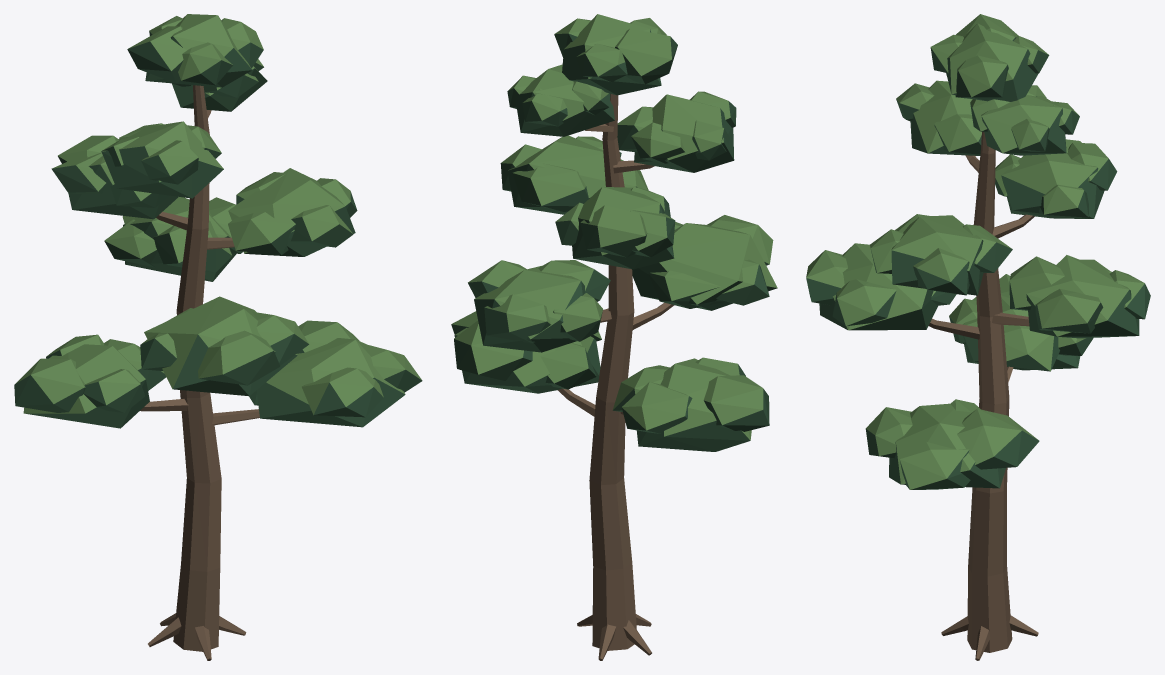
Rendered from pine_tiered.glb.
The picture shows the model from 3 angles, left to right: view 1: azimuth 30°, elevation 25°; view 2: azimuth 150°, elevation 25°; view 3: azimuth 270°, elevation 25°; orthographic projection. The views are drawn at different scales.
Parts seen in each view (by area): view 1: PineTiered / PineLight, PineTiered / PineNeedle, PineTiered / Bark; view 2: PineTiered / PineLight, PineTiered / PineNeedle, PineTiered / Bark; view 3: PineTiered / PineLight, PineTiered / PineNeedle, PineTiered / Bark.
Boxes of the visible parts, x1,y1,x2,y2 form: PineTiered / PineLight: [15, 14, 421, 414]; PineTiered / PineNeedle: [14, 31, 422, 428]; PineTiered / Bark: [140, 85, 259, 660]; PineTiered / PineLight: [451, 14, 777, 440]; PineTiered / PineNeedle: [451, 29, 777, 451]; PineTiered / Bark: [557, 93, 674, 660]; PineTiered / PineLight: [806, 14, 1144, 489]; PineTiered / PineNeedle: [806, 37, 1150, 489]; PineTiered / Bark: [928, 132, 1038, 660].
Size of the model in its own units: 5.21 by 8.79 by 4.49.
